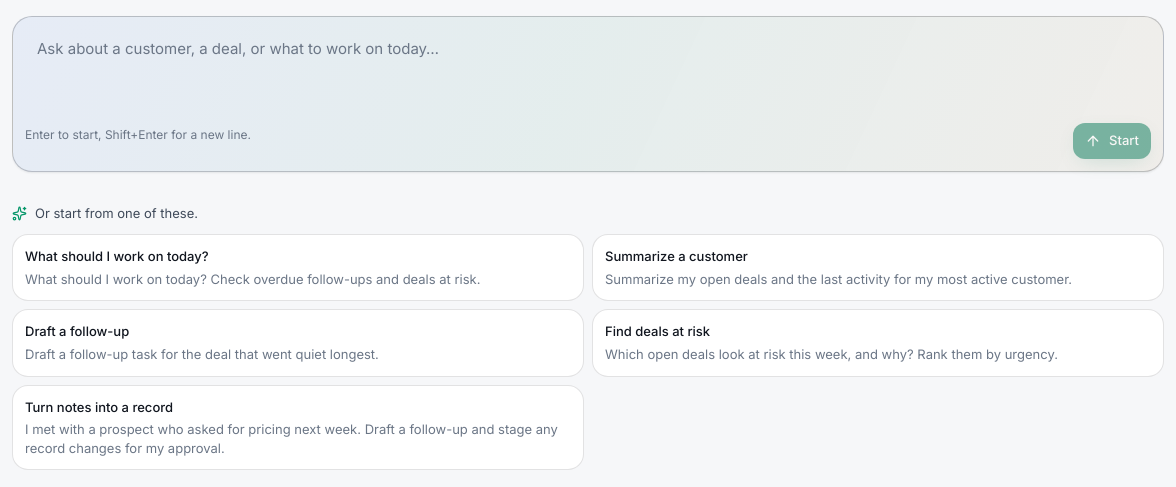
Scenario: LaunchView › fills the composer from a starter card instead of launching immediately
Click the button "What should I work on today?": (117, 256) [12,234,584,301]
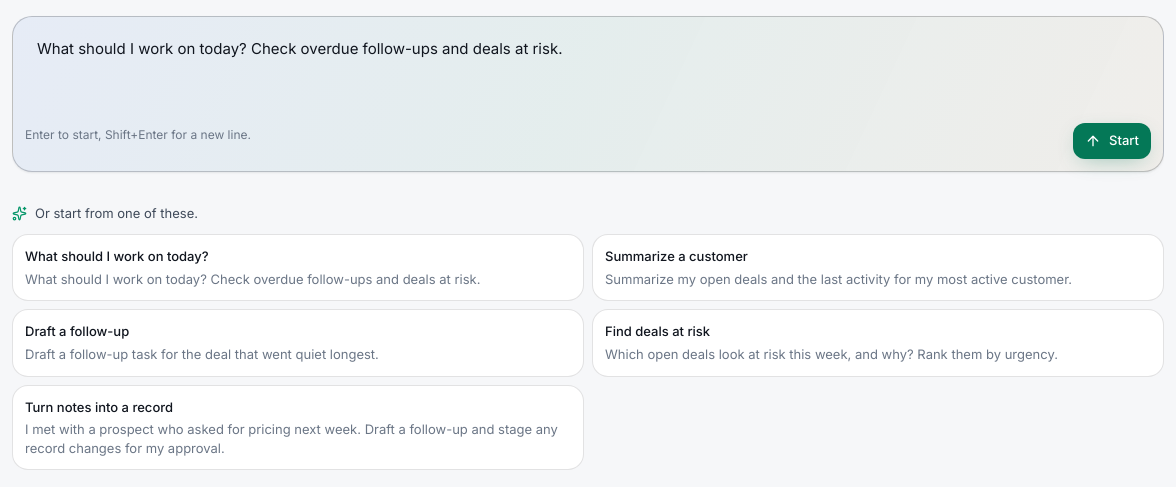
Check: the text box named "Message" holds "What should I work on today? Check overdue follow-ups and deals at risk.", box [25,29,1151,115]
